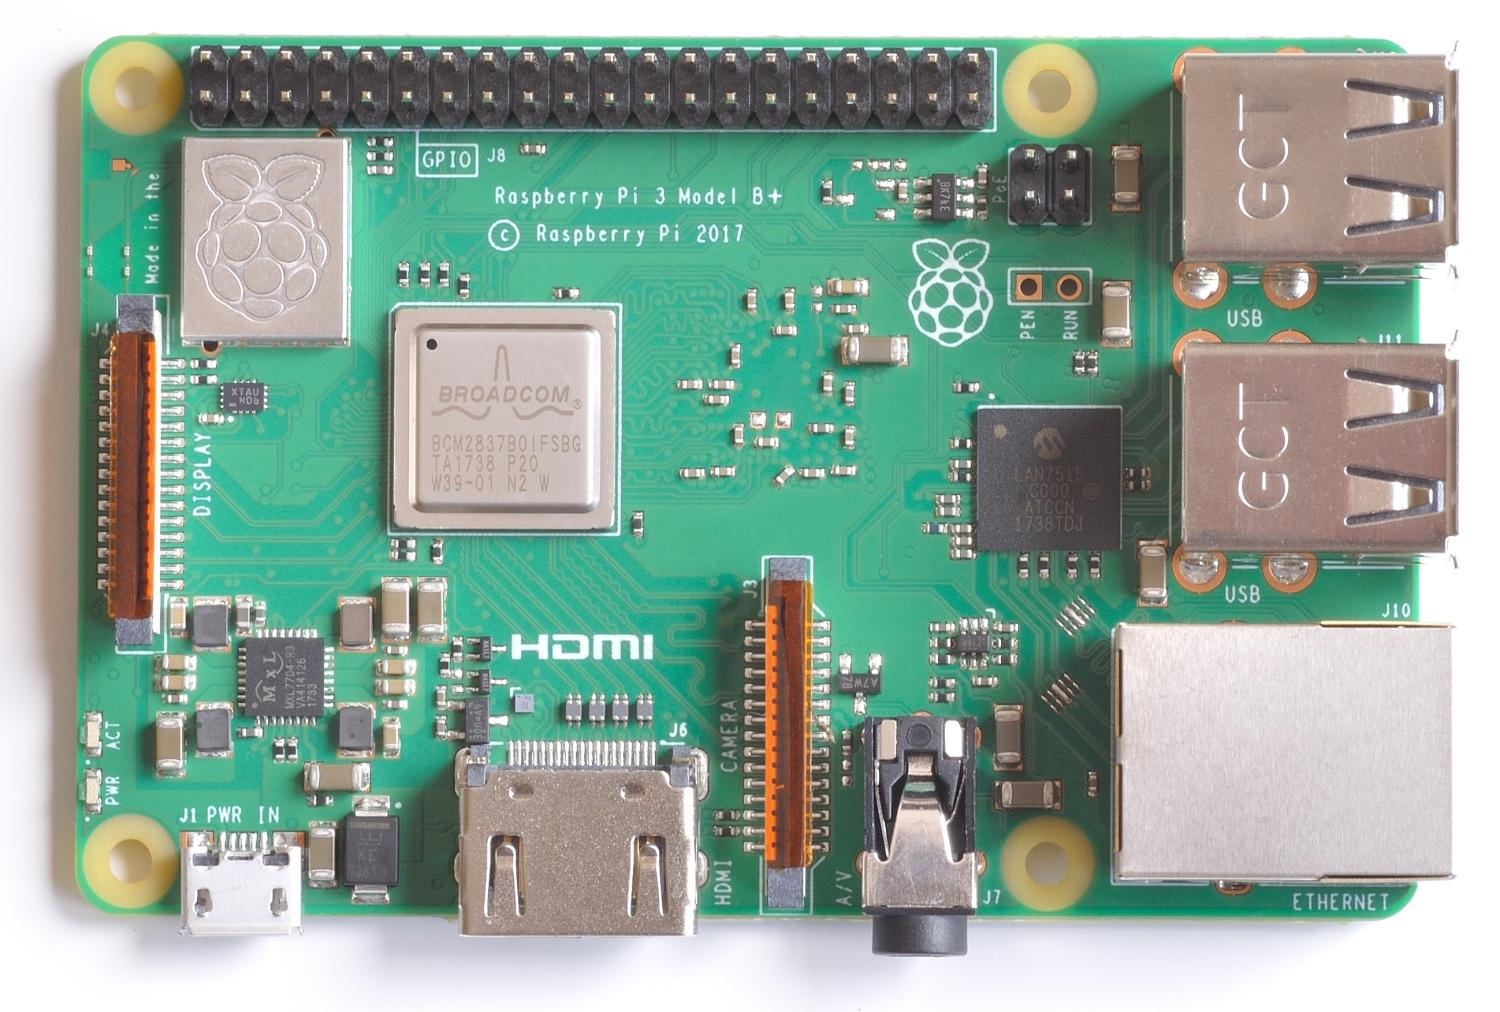audiojack: (861, 710, 984, 968)
bchi: (383, 293, 630, 542)
ethernet: (1111, 623, 1456, 888)
gpio: (185, 43, 994, 122)
usb: (1175, 340, 1459, 562), (1180, 52, 1459, 263)
